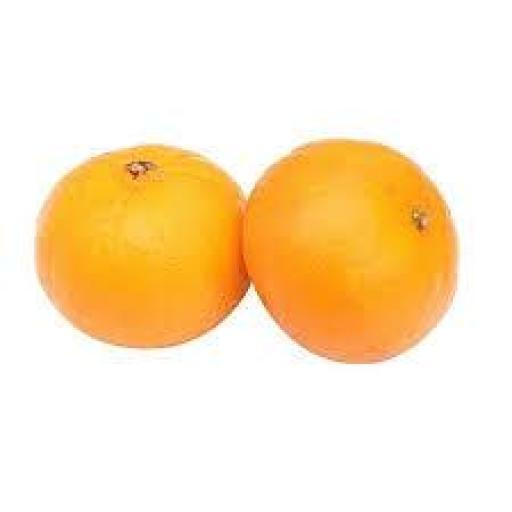orange: (244, 142, 457, 361), (37, 146, 248, 348)
